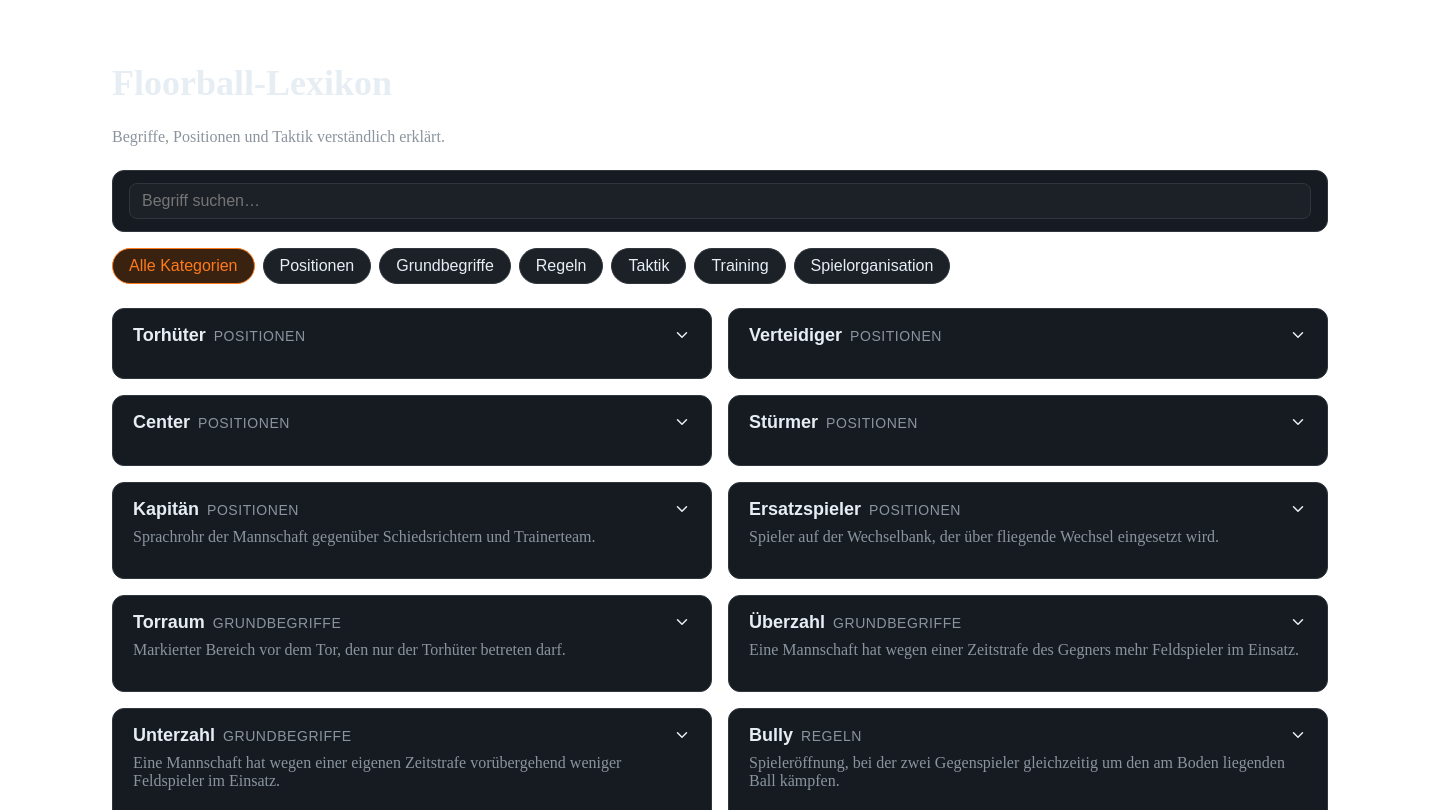
Test: GlossaryPage › filtert per Suchfeld auf passende Begriffe
Type "Schlenzer" into the search field.
click(720, 201); type("Schlenzer")  # box [129,183,1311,219]
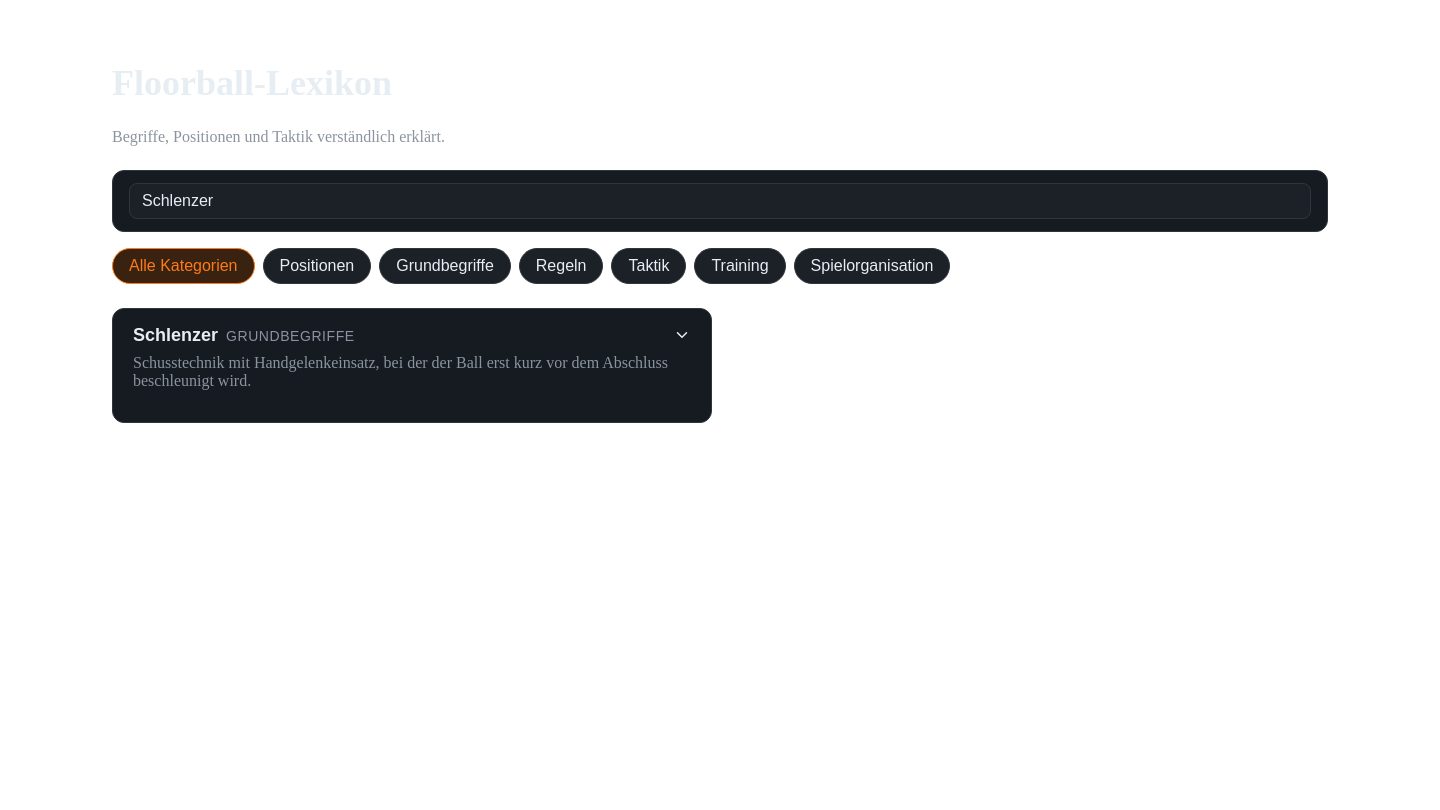
expect the button "Schlenzer" is shown: met, box [133,325,691,346]
expect the button "Bully" is gone: met
